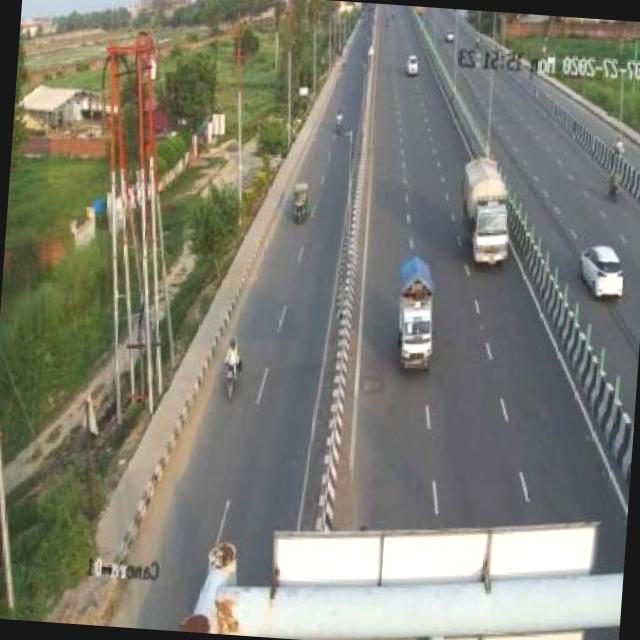car: (388, 252, 442, 378), (568, 240, 630, 302), (402, 51, 426, 80)
